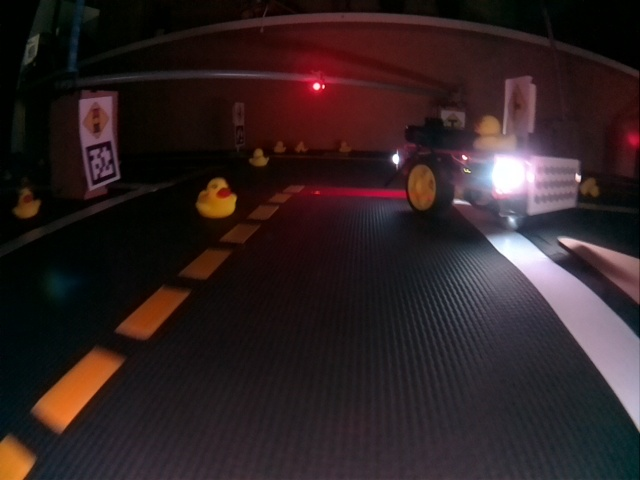Duckie: (197, 178, 235, 218), (475, 118, 514, 153), (13, 187, 39, 218), (249, 148, 268, 166)
Duckiebot: (401, 118, 580, 223)
Intersection sign: (507, 84, 527, 126)
QR code: (85, 143, 116, 185)
Signal sign: (80, 103, 110, 139)
Traffic light: (306, 74, 325, 93)
